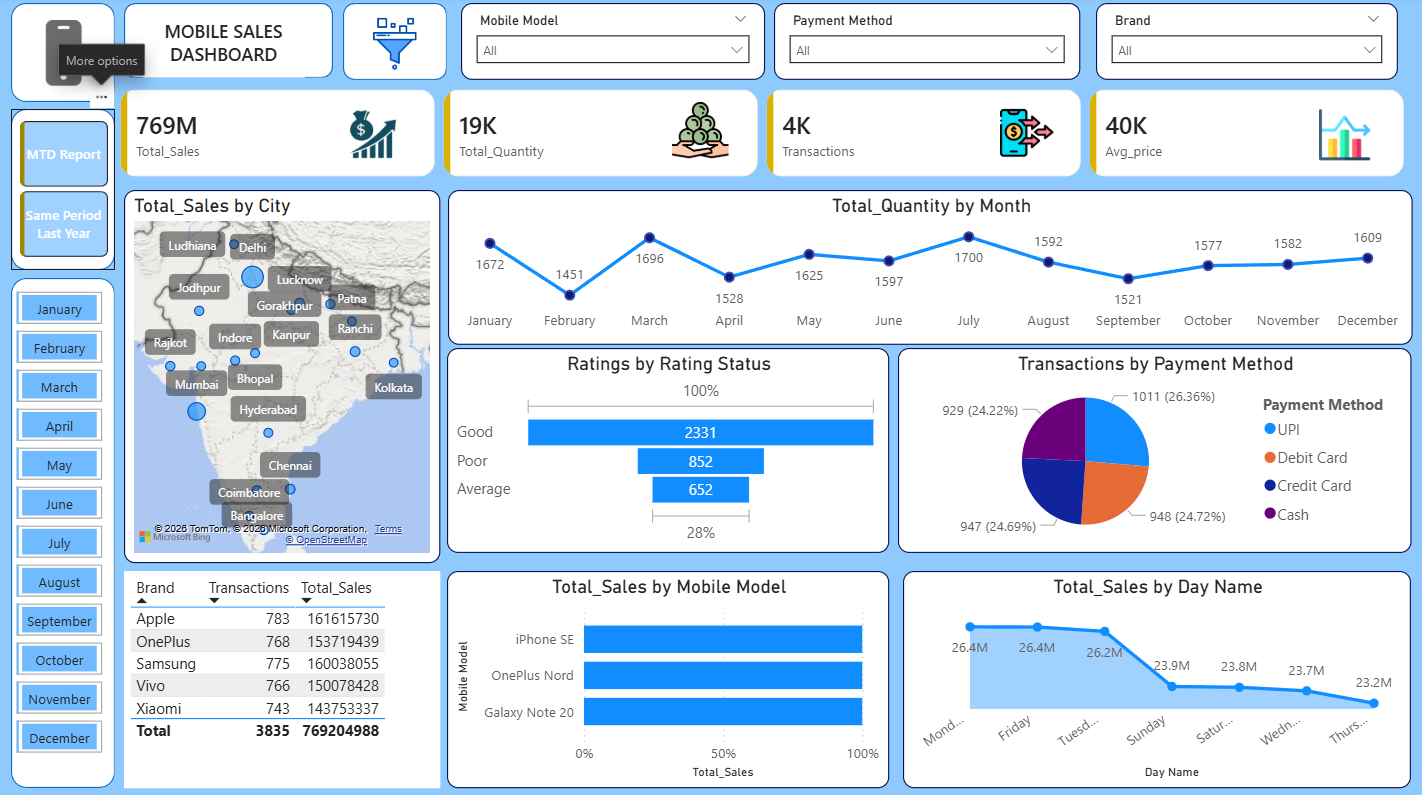

Layout of this report page (visuals, bound fields, positions):
{"tool":"powerbi","page":{"name":"Dashboard","canvas":[1280,720],"ordinal":0},"visuals":[{"type":"shape","box":[9.9,5.4,93.4,88.9],"z":0},{"type":"image","box":[11.7,20.6,90.7,59.3],"z":1000},{"type":"shape","box":[9.9,100.5,93.4,144.5],"z":2000},{"type":"shape","box":[9.9,252.3,93.4,457.9],"z":3000},{"type":"advancedSlicerVisual","fields":{"Values":["Custom_Calendar.Date.Variation.Date Hierarchy.Month"]},"box":[9.9,259.5,87.1,434.5],"z":4000},{"type":"cardVisual","fields":{"Data":["Mobile_sales_data.Total_Sales","Mobile_sales_data.Total_Quantity","Mobile_sales_data.Quantity","Mobile_sales_data.Avg_price"]},"box":[103.2,78.1,1163.5,88.9],"z":5000},{"type":"image","box":[307.9,99.7,53.9,46.7],"z":6000},{"type":"image","box":[599.7,92.5,58.4,53.9],"z":7000},{"type":"image","box":[897.8,92.5,47.6,59.3],"z":8000},{"type":"image","box":[1184.1,99.7,45.8,47.6],"z":9000},{"type":"slicer","fields":{"Values":["Mobile_sales_data.Mobile Model"]},"box":[413.9,5.4,272.9,69.1],"z":10000},{"type":"slicer","fields":{"Values":["Mobile_sales_data.Payment Method"]},"box":[694.9,5.4,274.7,69.1],"z":11000},{"type":"slicer","fields":{"Values":["Mobile_sales_data.Brand"]},"box":[983.9,5.4,271.1,69.1],"z":12000},{"type":"shape","box":[307.9,5.4,93.4,69.1],"z":13000},{"type":"image","box":[321.4,17.8,65.5,48.5],"z":14000},{"type":"shape","box":[111.3,5.4,187.6,67.3],"z":15000},{"type":"textbox","box":[128.4,14.2,144.5,58.4],"z":16000},{"type":"map","fields":{"Category":["Mobile_sales_data.City"],"Size":["Mobile_sales_data.Total_Sales"]},"box":[111.3,173.3,283.7,334.9],"z":17000},{"type":"lineChart","fields":{"Category":["Custom_Calendar.Date.Variation.Date Hierarchy.Month"],"Y":["Mobile_sales_data.Total_Quantity"]},"box":[402.2,173.3,866.3,139.2],"z":18000},{"type":"funnel","title":" Ratings by Rating Status","fields":{"Category":["Mobile_sales_data.Rating Status"],"Y":["CountNonNull(Mobile_sales_data.Customer Ratings)"]},"box":[401.3,315.1,396.8,184],"z":19000},{"type":"pieChart","fields":{"Y":["Mobile_sales_data.Transactions"],"Category":["Mobile_sales_data.Payment Method"]},"box":[806.2,315.1,460.5,184],"z":20000},{"type":"hundredPercentStackedBarChart","fields":{"Y":["Mobile_sales_data.Total_Sales"],"Category":["Mobile_sales_data.Mobile Model"]},"box":[401.3,515.3,396.8,194.8],"z":21000},{"type":"areaChart","fields":{"Category":["Custom_Calendar.Day Name"],"Y":["Mobile_sales_data.Total_Sales"]},"box":[810.7,515.3,456.1,194.8],"z":22000},{"type":"tableEx","fields":{"Values":["Mobile_sales_data.Brand","Mobile_sales_data.Transactions","Mobile_sales_data.Total_Sales"]},"box":[111.3,515.3,283.7,194.8],"z":23000},{"type":"pageNavigator","box":[18,111.3,79,123],"z":24000}]}

Visuals, with their boxes in screenshot pixels (x1, y1, x2, y2):
shape: rect(7, 0, 113, 96)
image: rect(10, 12, 112, 79)
shape: rect(7, 103, 113, 266)
shape: rect(7, 274, 113, 792)
advancedSlicerVisual - Custom_Calendar.Date.Variation.Date Hierarchy.Month: rect(7, 282, 106, 774)
cardVisual - Mobile_sales_data.Total_Sales x Mobile_sales_data.Total_Quantity: rect(113, 77, 1421, 178)
image: rect(344, 102, 405, 154)
image: rect(674, 93, 740, 154)
image: rect(1011, 93, 1065, 161)
image: rect(1335, 102, 1387, 155)
slicer - Mobile_sales_data.Mobile Model: rect(464, 0, 773, 73)
slicer - Mobile_sales_data.Payment Method: rect(782, 0, 1093, 73)
slicer - Mobile_sales_data.Brand: rect(1109, 0, 1415, 73)
shape: rect(344, 0, 450, 73)
image: rect(360, 9, 434, 64)
shape: rect(122, 0, 334, 71)
textbox: rect(141, 5, 305, 71)
map - Mobile_sales_data.City x Mobile_sales_data.Total_Sales: rect(122, 185, 443, 563)
lineChart - Custom_Calendar.Date.Variation.Date Hierarchy.Month x Mobile_sales_data.Total_Quantity: rect(451, 185, 1421, 342)
" Ratings by Rating Status" funnel: rect(450, 345, 899, 553)
pieChart - Mobile_sales_data.Transactions x Mobile_sales_data.Payment Method: rect(908, 345, 1421, 553)
hundredPercentStackedBarChart - Mobile_sales_data.Total_Sales x Mobile_sales_data.Mobile Model: rect(450, 571, 899, 792)
areaChart - Custom_Calendar.Day Name x Mobile_sales_data.Total_Sales: rect(913, 571, 1421, 792)
tableEx - Mobile_sales_data.Brand x Mobile_sales_data.Transactions: rect(122, 571, 443, 792)
pageNavigator: rect(17, 115, 106, 254)
